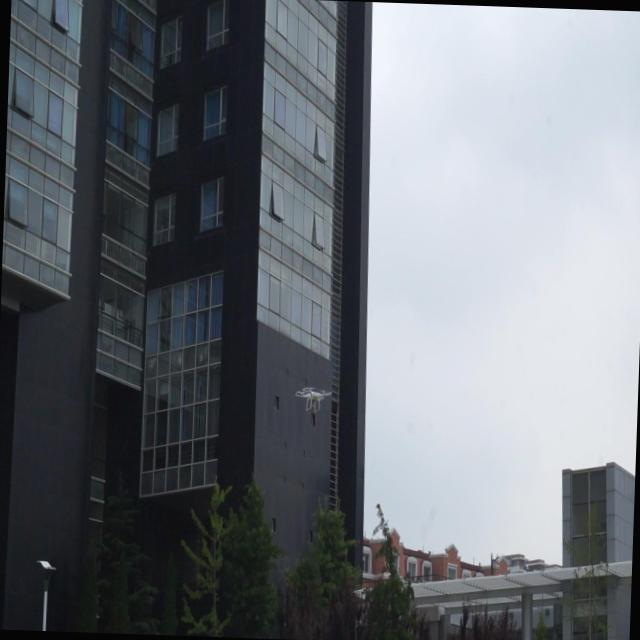drone: (294, 380, 333, 416)
